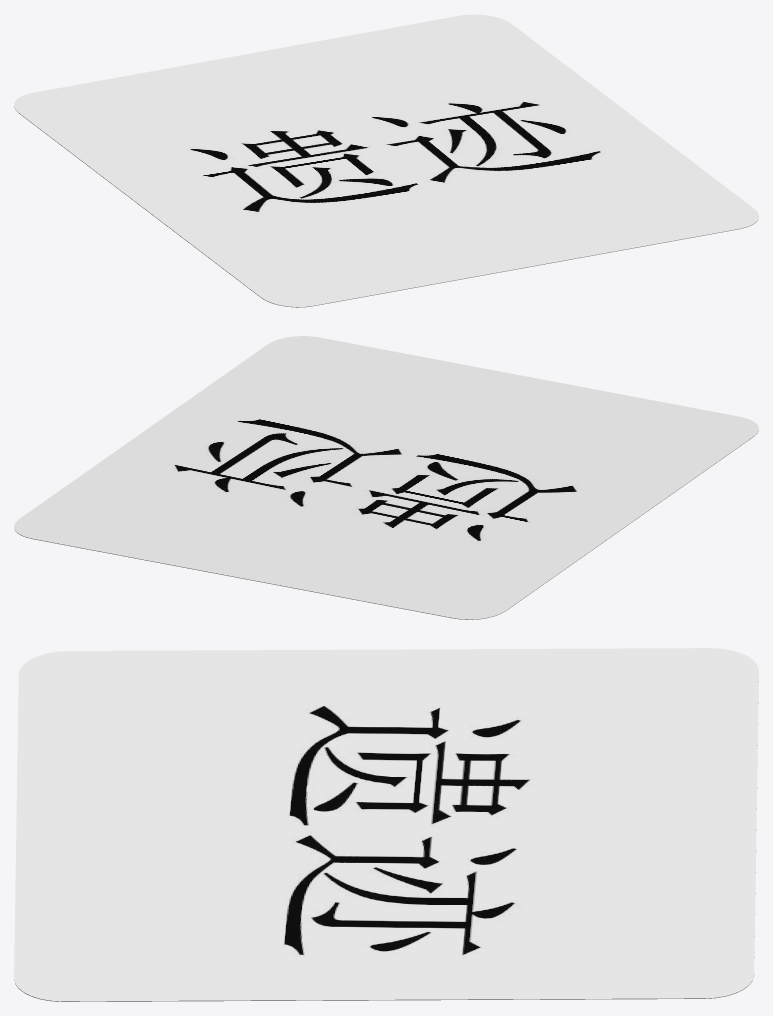
The model's file is YiJi.FBX.
3 views of the same model, one above another, from view 1: azimuth 30°, elevation 25°; view 2: azimuth 150°, elevation 25°; view 3: azimuth 270°, elevation 25° (orthographic). The views are drawn at different scales.
Parts seen in each view (by area): view 1: Rectangle001; view 2: Rectangle001; view 3: Rectangle001.
Part boxes in pixels (bbox=[...]): Rectangle001: bbox=[14, 14, 758, 307]; Rectangle001: bbox=[14, 336, 758, 619]; Rectangle001: bbox=[14, 648, 758, 1001].
Size of the model in its own units: 60.32 by 3.91 by 60.38.
